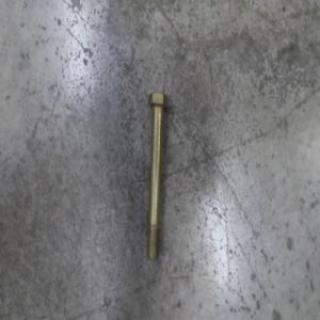Bolttrack_idkeyframe: (145, 88, 168, 264)
